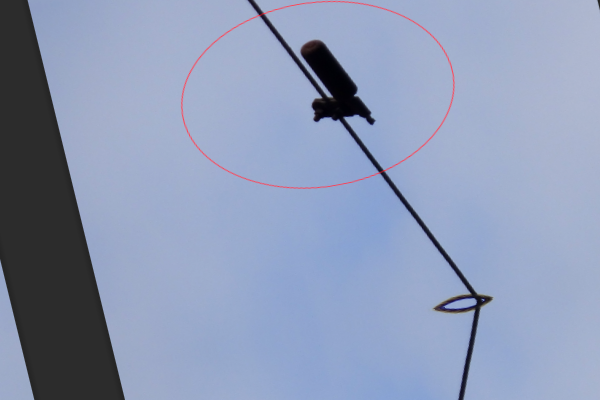damper_defect: (295, 37, 378, 128)
